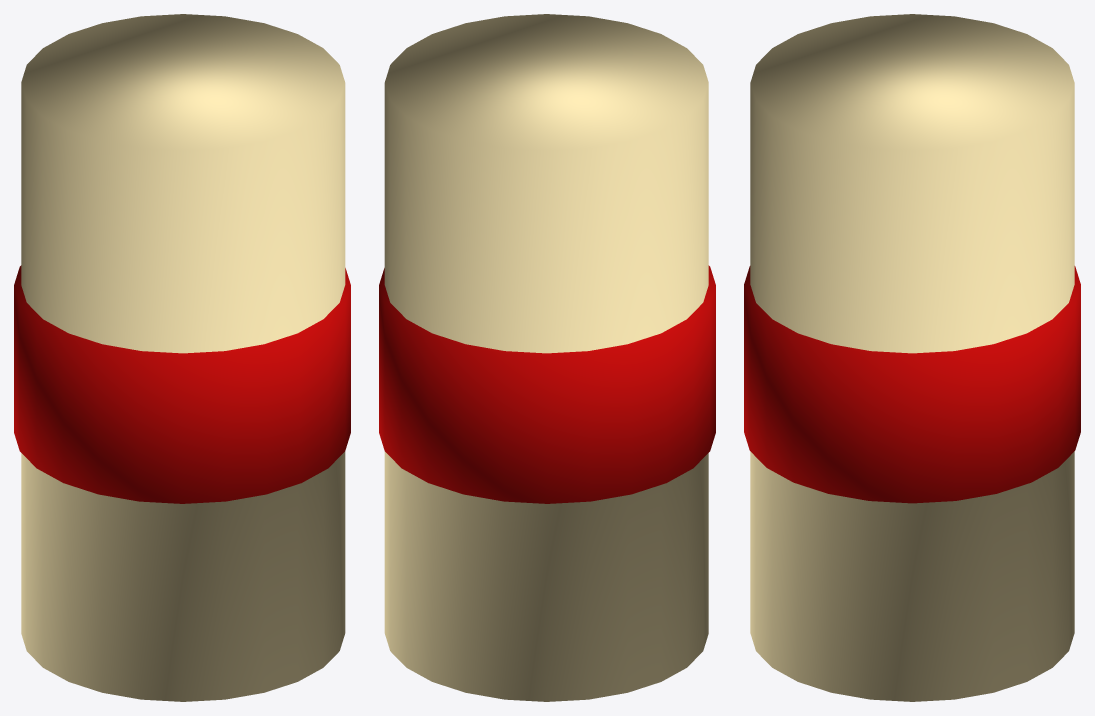
Rendered from bandage.glb.
The picture shows the model from 3 angles, left to right: view 1: azimuth 30°, elevation 25°; view 2: azimuth 150°, elevation 25°; view 3: azimuth 270°, elevation 25°; orthographic projection.
Parts seen in each view (by area): view 1: Цилиндр; view 2: Цилиндр; view 3: Цилиндр.
Part boxes in pixels (x1,y1,x2,y2): Цилиндр: (14,14,350,701); Цилиндр: (379,14,715,701); Цилиндр: (744,14,1080,701).
Bounding box in the file's own units: 0.1527 × 0.2755 × 0.1527.
Materials: 1 (1 with a texture image).
